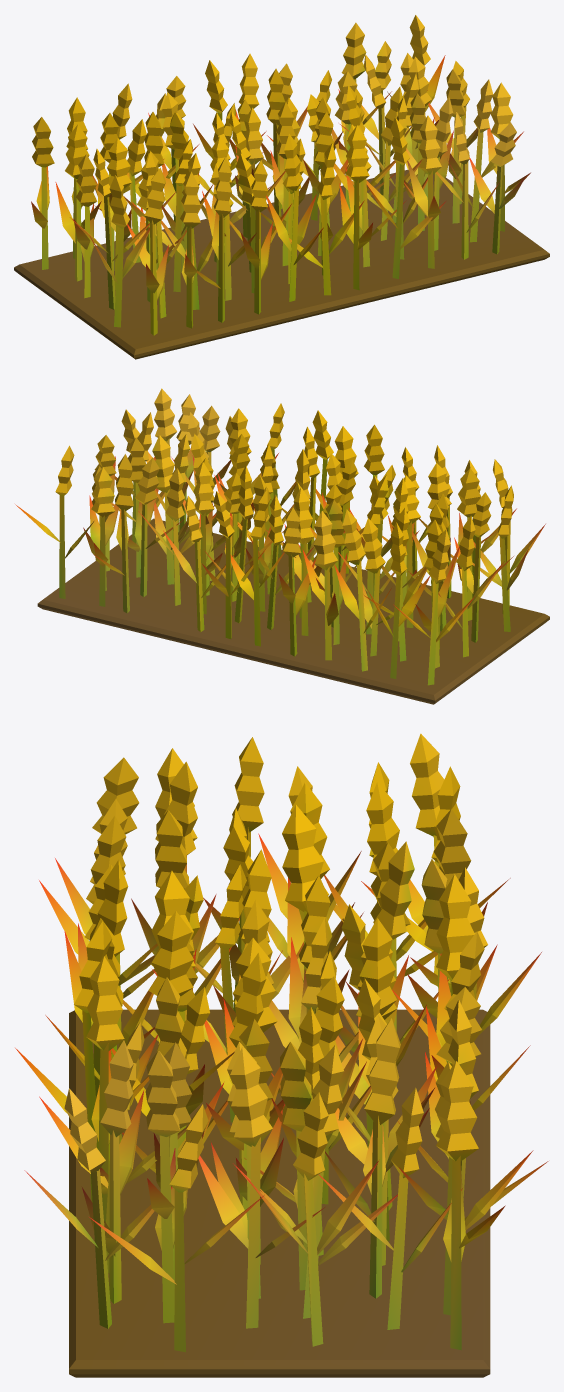
Rendered from Farm_Wheat_Straight_3m.fbx.
The picture shows the model from 3 angles, top to bottom: view 1: azimuth 30°, elevation 25°; view 2: azimuth 150°, elevation 25°; view 3: azimuth 270°, elevation 25°; orthographic projection. The views are drawn at different scales.
Visible parts, largest first — view 1: Farm_Wheat_Straight_3m; view 2: Farm_Wheat_Straight_3m; view 3: Farm_Wheat_Straight_3m.
Boxes of the visible parts, <box> form: Farm_Wheat_Straight_3m: <box>14,15,549,359</box>; Farm_Wheat_Straight_3m: <box>15,388,549,704</box>; Farm_Wheat_Straight_3m: <box>15,733,548,1377</box>.
Bounding box in the file's own units: 3.25 × 1.24 × 1.91.
